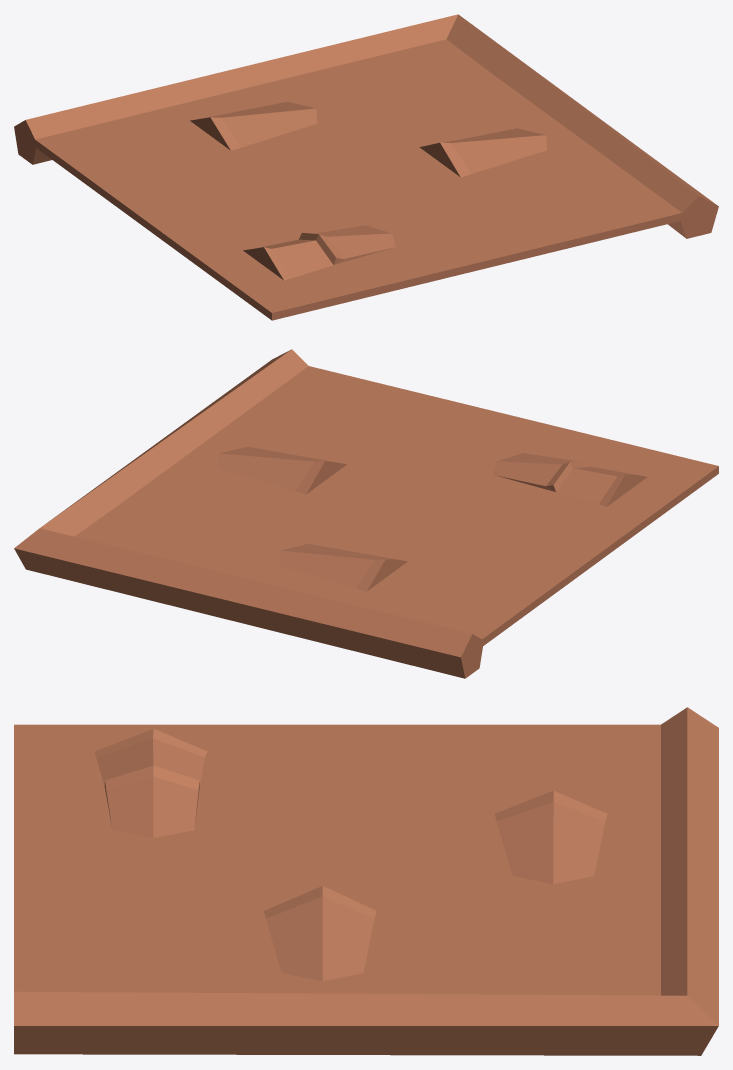
File: empire-roof-inner-corner-3x3m-joint-empire.glb
3 renders of one model, top to bottom at view 1: azimuth 30°, elevation 25°; view 2: azimuth 150°, elevation 25°; view 3: azimuth 270°, elevation 25°, orthographic. The views are drawn at different scales.
Parts seen in each view (by area): view 1: SM_Roof_Inner_Corner_3x3m_Joint_Empire; view 2: SM_Roof_Inner_Corner_3x3m_Joint_Empire; view 3: SM_Roof_Inner_Corner_3x3m_Joint_Empire.
Part boxes in pixels (box(x1,y1,x2,y2)): SM_Roof_Inner_Corner_3x3m_Joint_Empire: box(14, 14, 718, 320); SM_Roof_Inner_Corner_3x3m_Joint_Empire: box(14, 349, 718, 678); SM_Roof_Inner_Corner_3x3m_Joint_Empire: box(14, 707, 718, 1055).
Bounding box in the file's own units: 3.06 × 0.3024 × 3.06.
